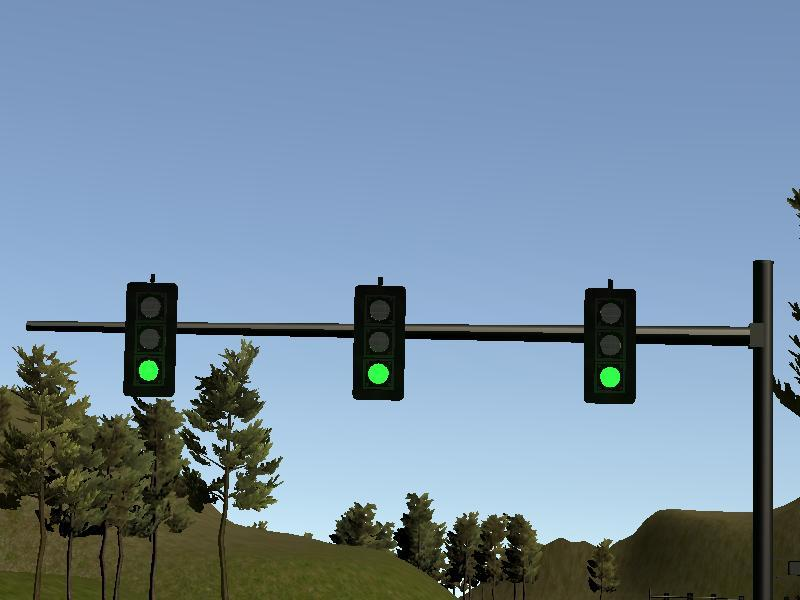Green: (354, 285, 403, 398), (585, 289, 634, 402), (127, 283, 174, 394)
